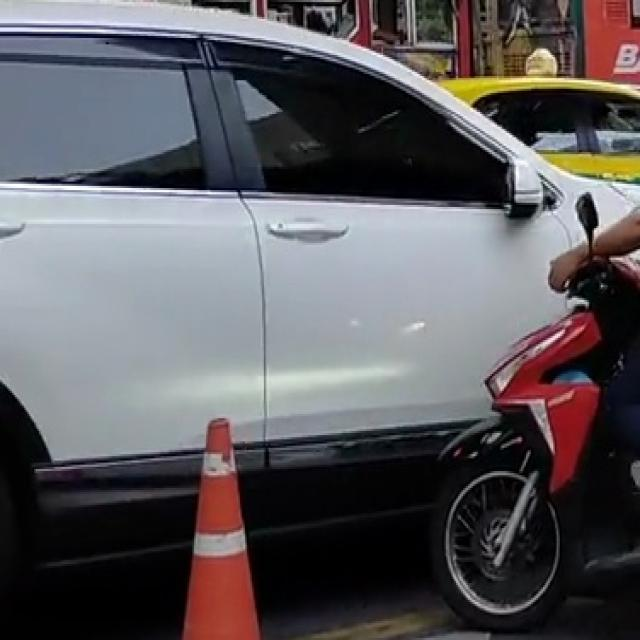tyre: (429, 448, 568, 632), (0, 363, 53, 636)
